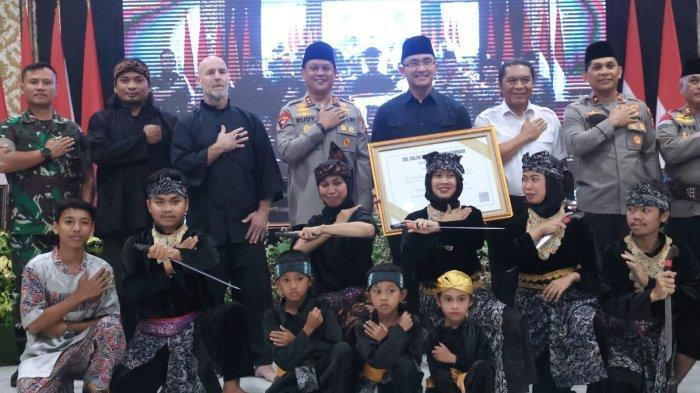faca: (536, 212, 572, 250)
facao: (134, 243, 239, 288), (390, 223, 505, 230)
